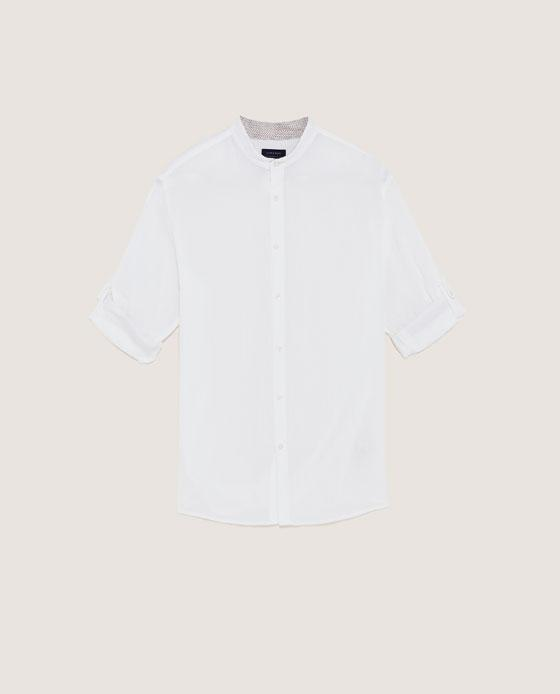teeshirt: (91, 114, 466, 531)
